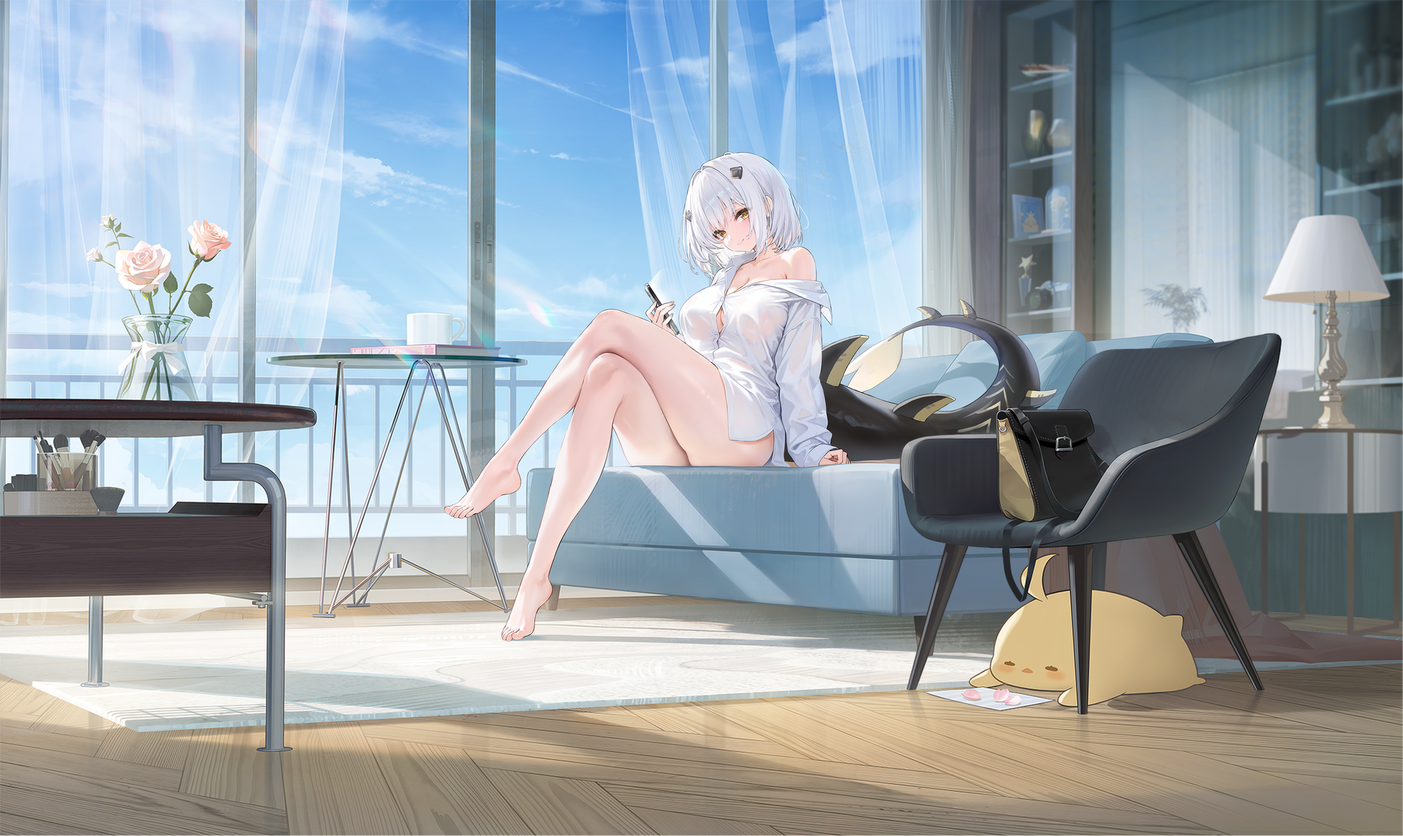person: (387, 127, 1028, 673)
